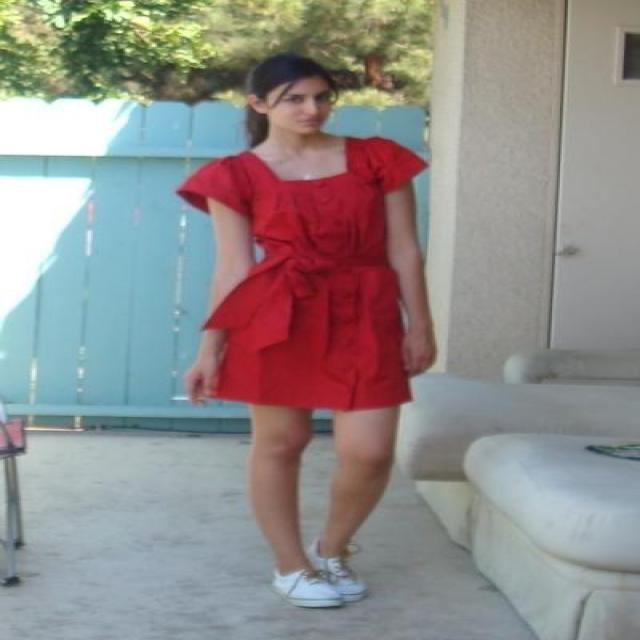dress: (178, 137, 427, 410)
shoe: (274, 550, 360, 605)
